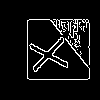X: (20, 35, 68, 77)
